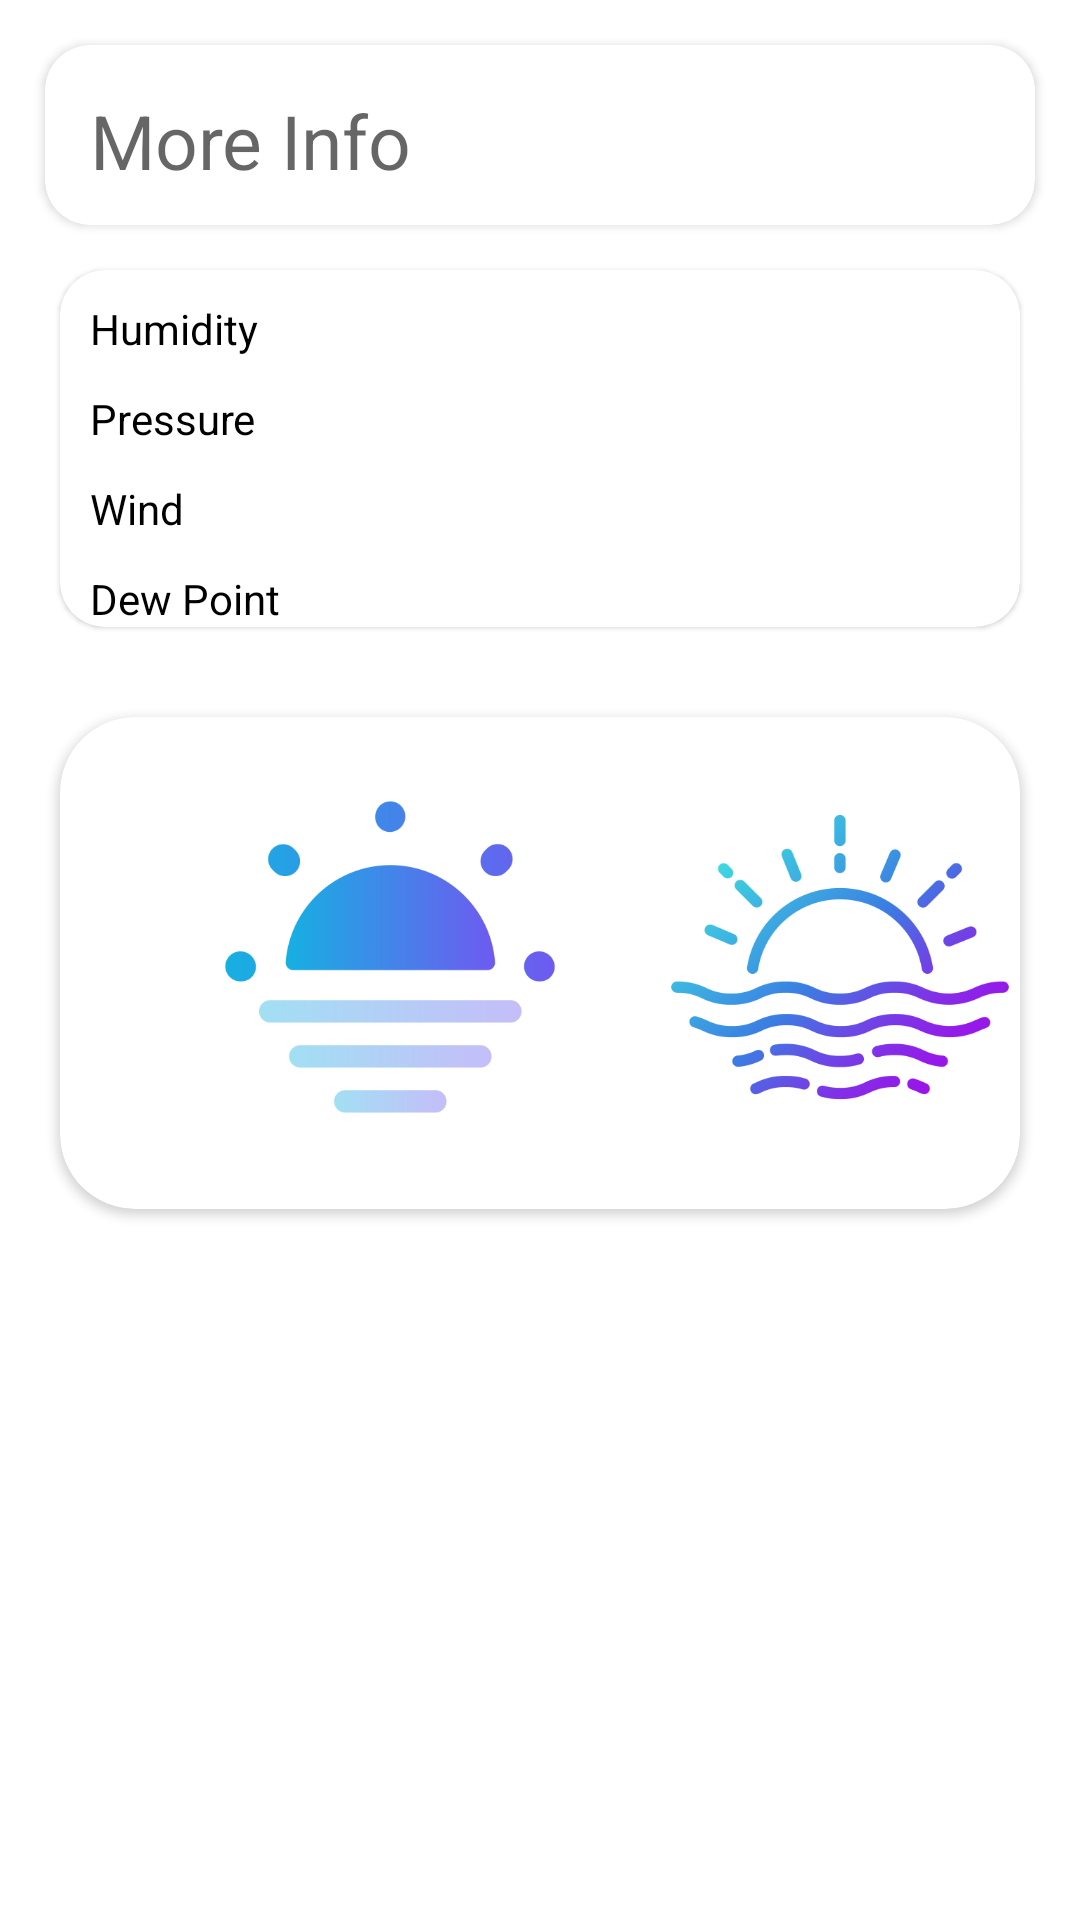

Icons on this 1080 x 1920 Android screen, each with the point to tap as (x=x, y=y):
sunrise: (x=390, y=957)
sunset: (x=845, y=939)
